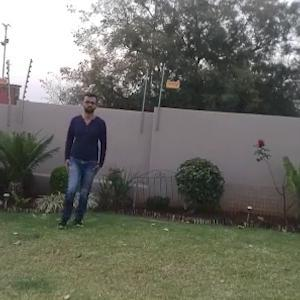follow: (62, 89, 108, 227)
